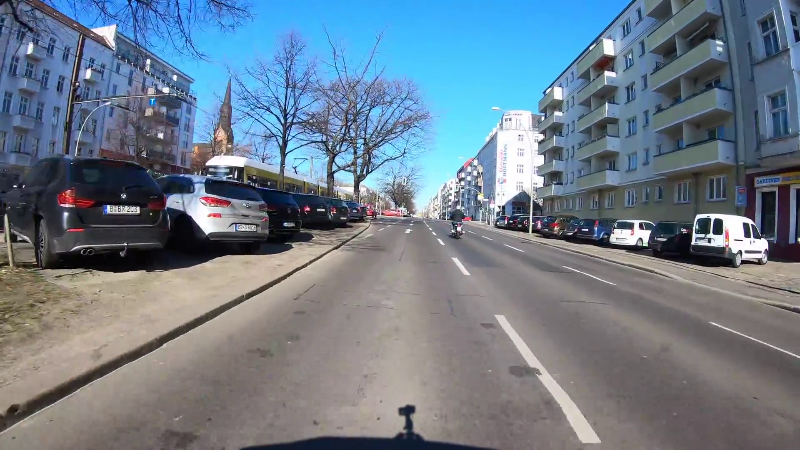Plate: (100, 200, 144, 217), (234, 222, 258, 232), (281, 220, 296, 228), (654, 235, 668, 241), (613, 236, 627, 242), (694, 237, 710, 242), (315, 207, 325, 212)
